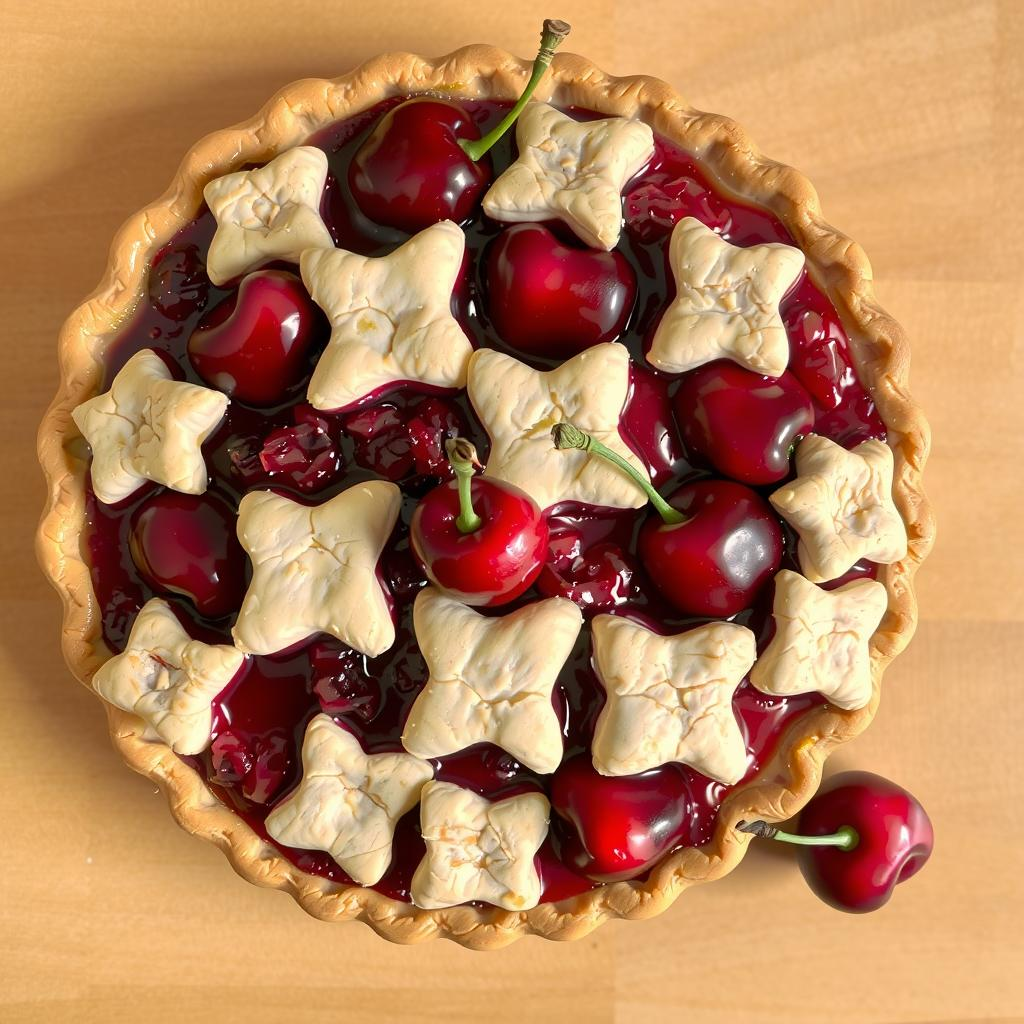pie: (31, 37, 939, 951)
